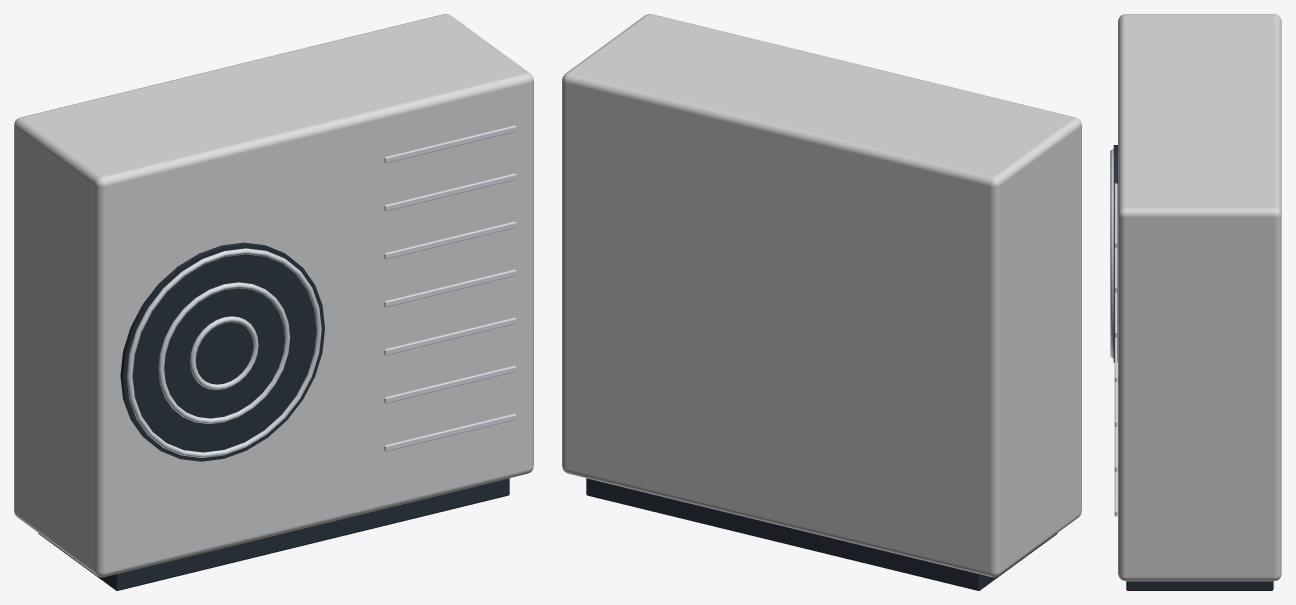
The model's file is outdoor-l.glb.
3 views of the same model, side by side, from view 1: azimuth 30°, elevation 25°; view 2: azimuth 150°, elevation 25°; view 3: azimuth 270°, elevation 25° (orthographic). The views are drawn at different scales.
Size of the model in its own units: 0.95 by 0.87 by 0.3457.
